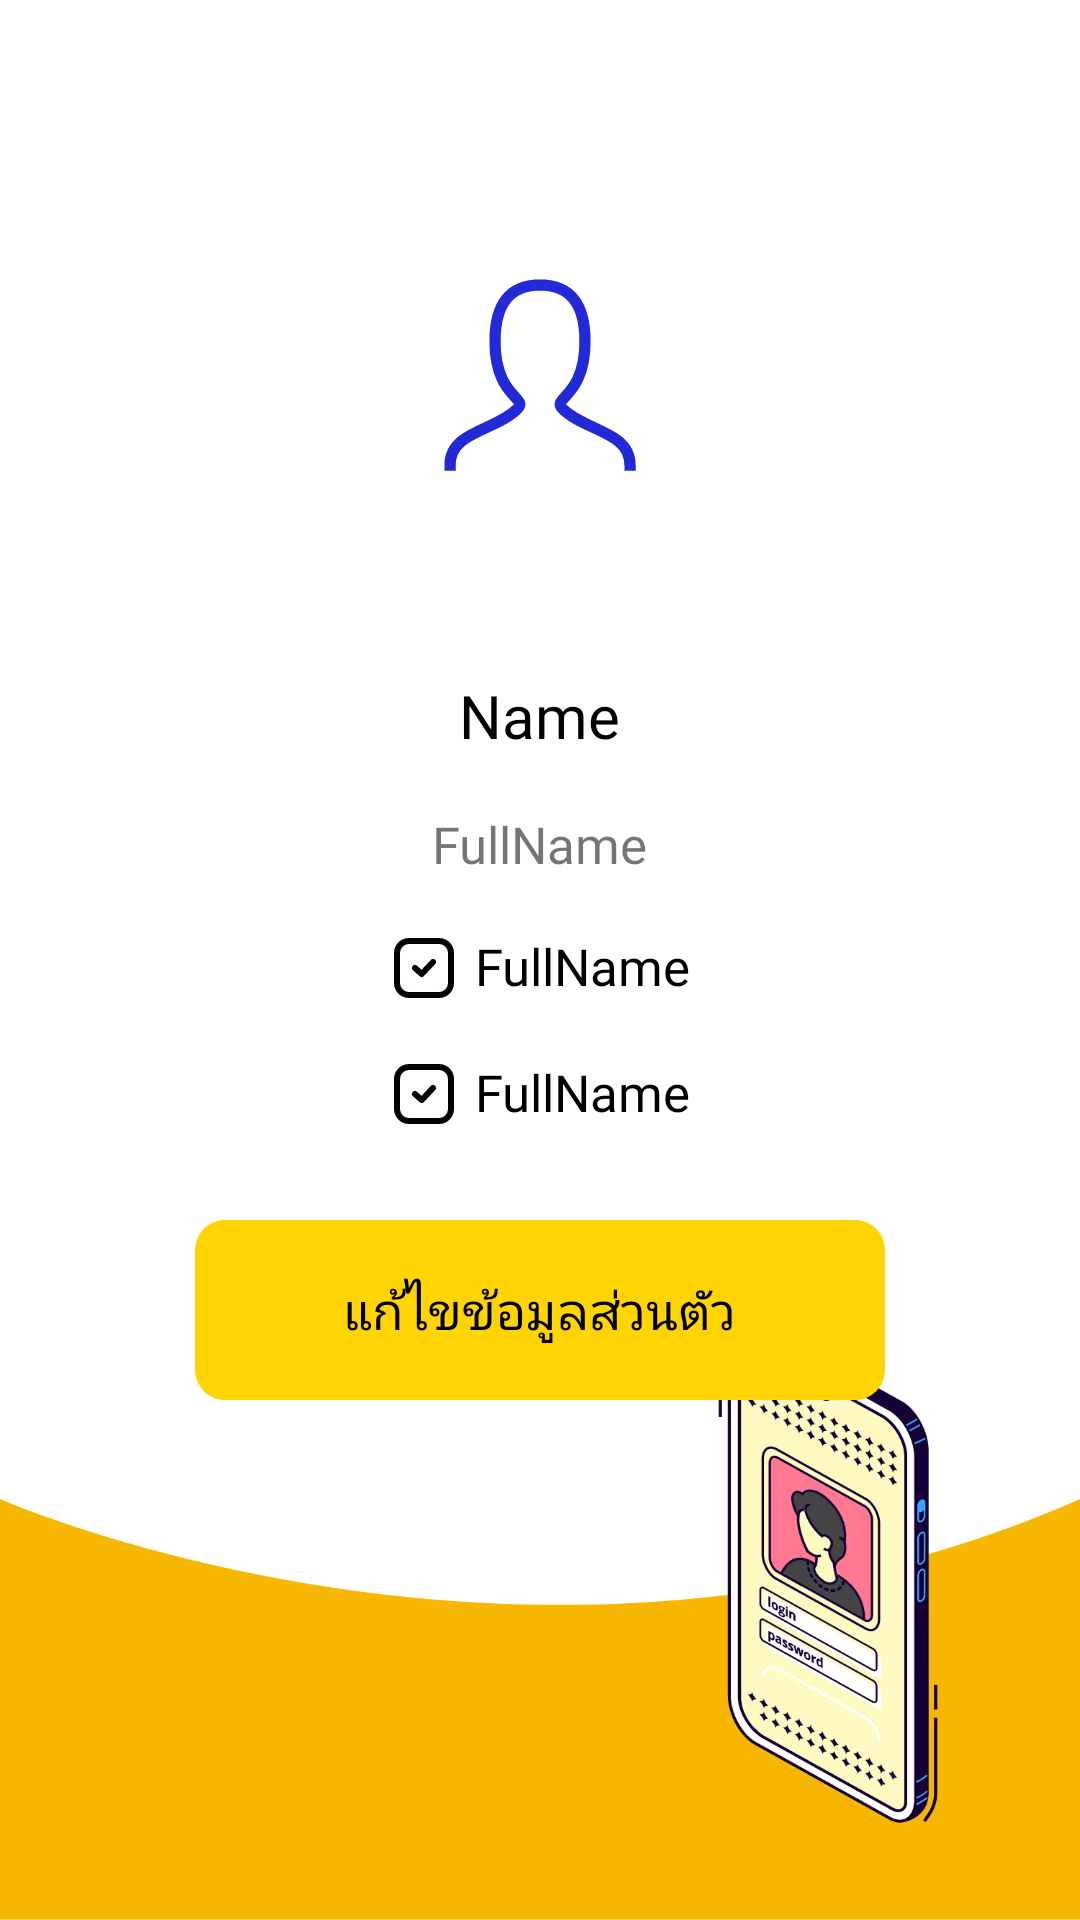

Named icons in this screenshot (1080px x 1920px) and their centers, (x,y):
check box: (424,968), (424,1094)
profile: (540,375)
